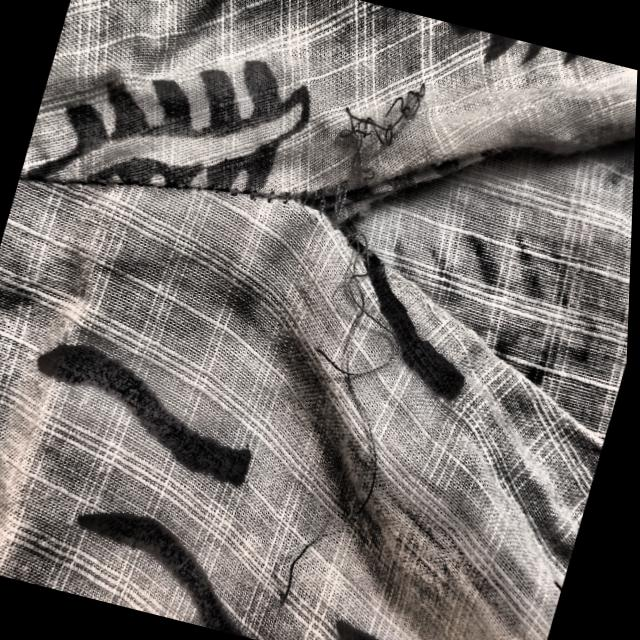Stitch: (196, 2, 502, 640)
